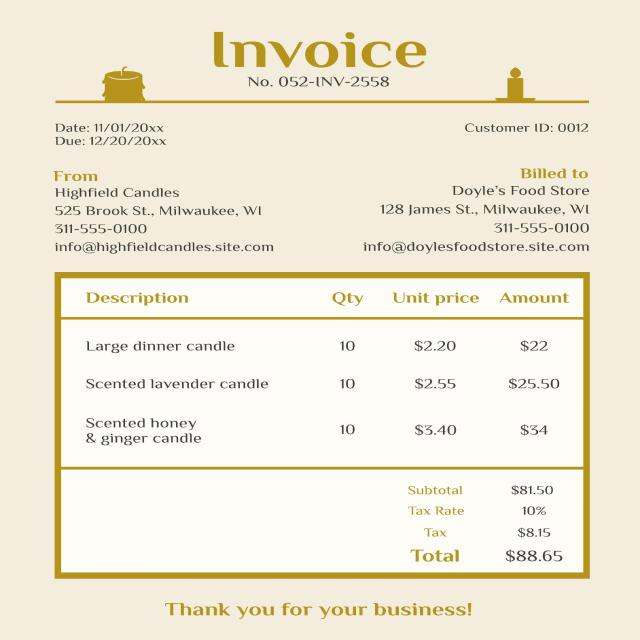paragraph: (354, 166, 599, 258), (44, 165, 287, 255), (396, 478, 577, 568), (206, 27, 424, 68), (162, 599, 483, 621), (44, 118, 182, 151), (248, 75, 400, 92), (450, 122, 595, 138)
table: (68, 284, 575, 462)
